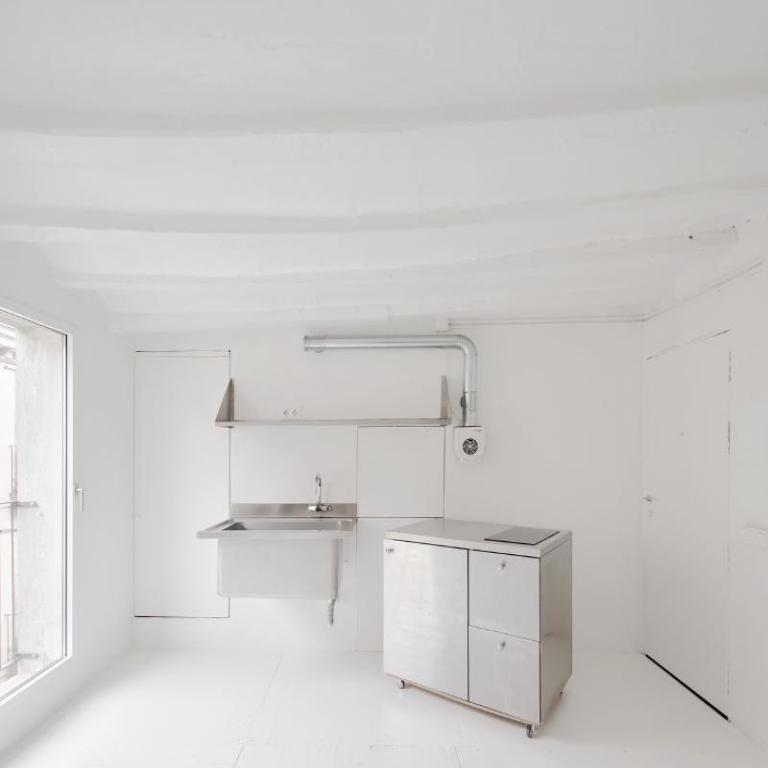white-walls: (502, 370, 636, 634)
